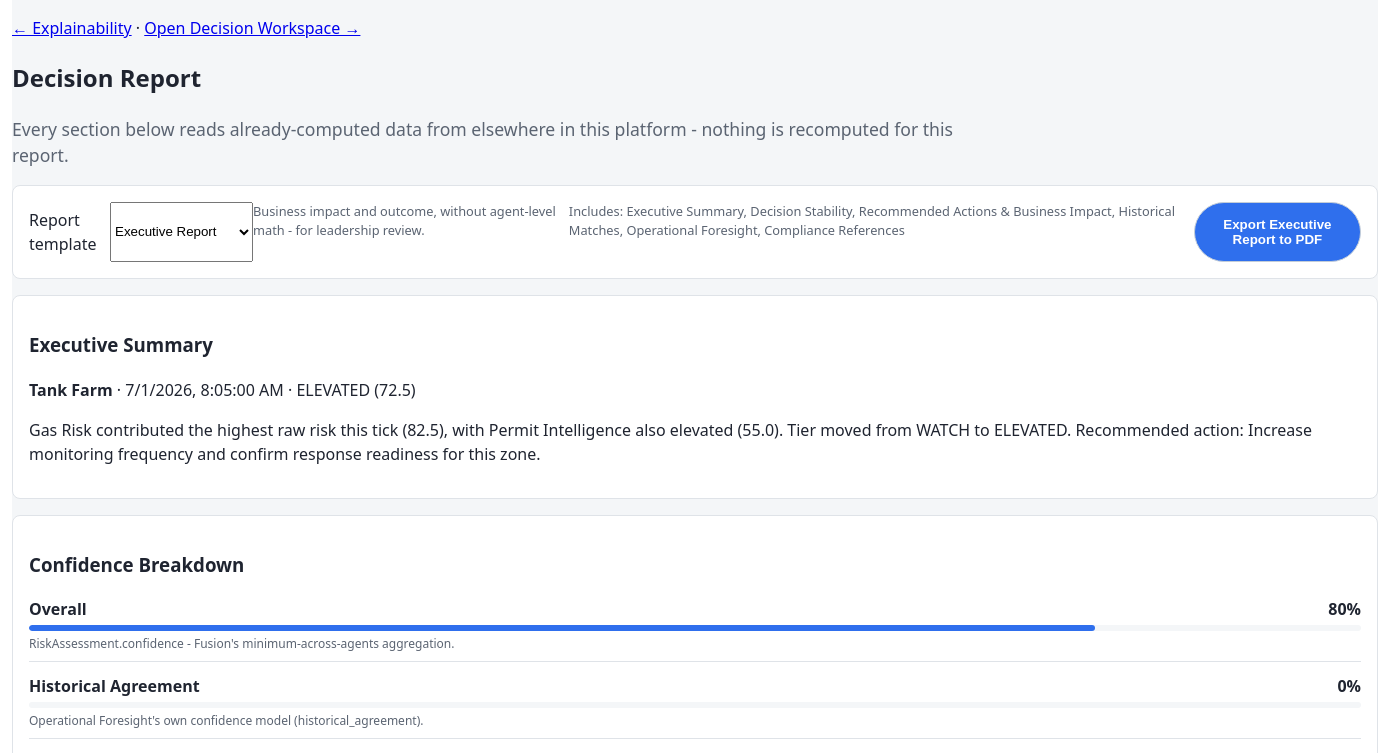
DecisionReportPage report templates › defaults to the Executive Report and lets an operator switch templates
The image size is (1378, 753).
Check: the button "Export Executive Report to PDF" is shown, box [1194,202,1361,262]
Check: the text "Business impact and outcome" is shown, box [253,202,556,239]
Select "Maintenance Report" in the dropdown labelled "Report template": (182, 232) [110,202,253,262]
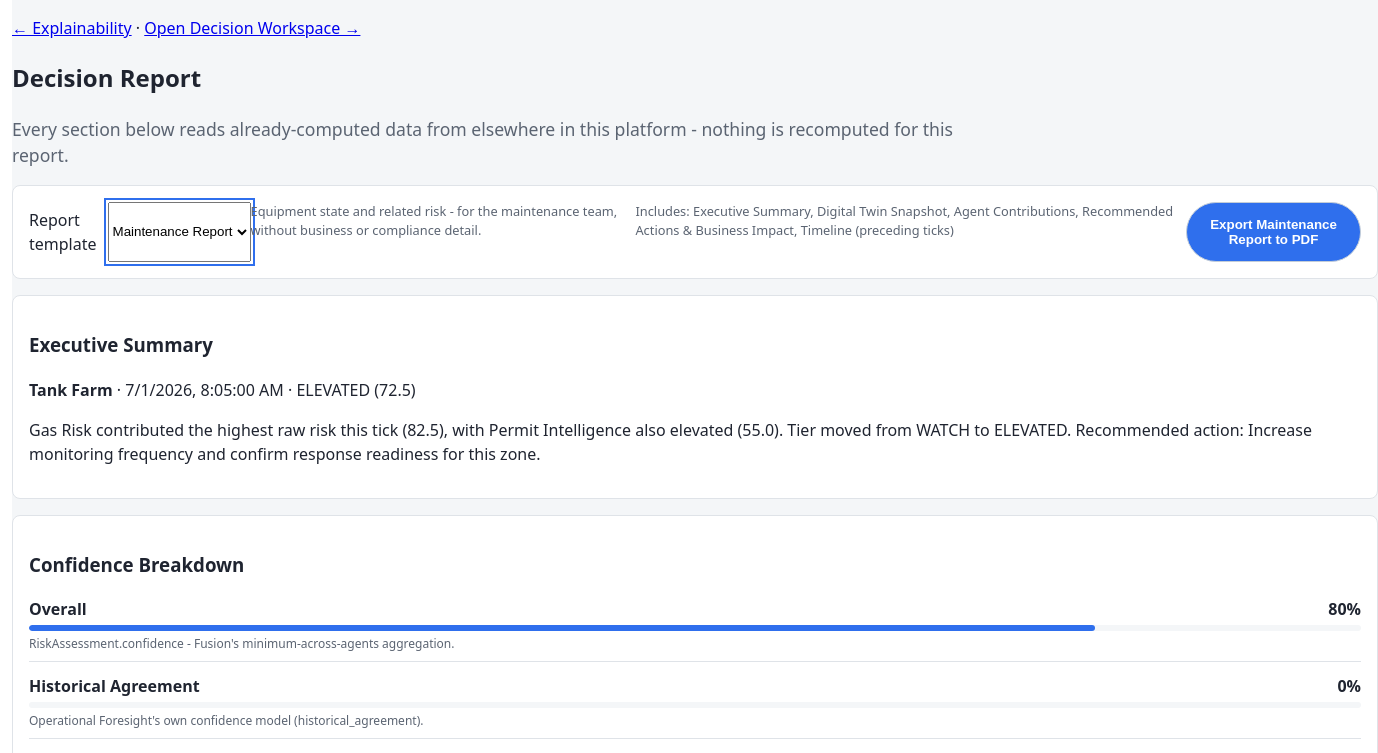
Check: the button "Export Maintenance Report to PDF" is shown, box [1186,202,1361,262]
Check: the text "Equipment state and related risk" is shown, box [250,202,617,239]
Check: the text "Digital Twin Snapshot" is shown, box [635,202,1173,239]
